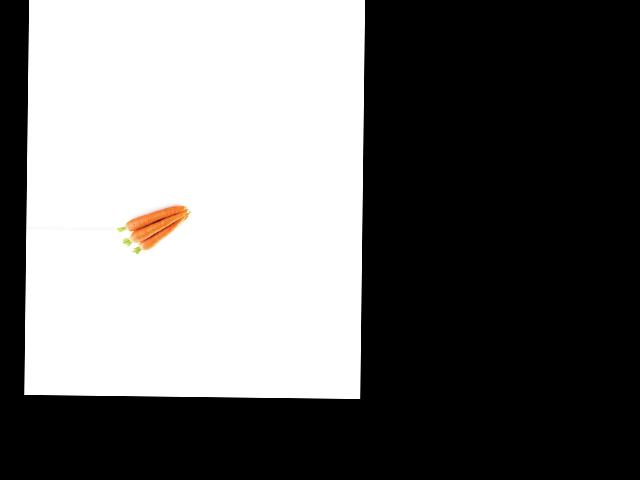carrot: (127, 205, 184, 233)
